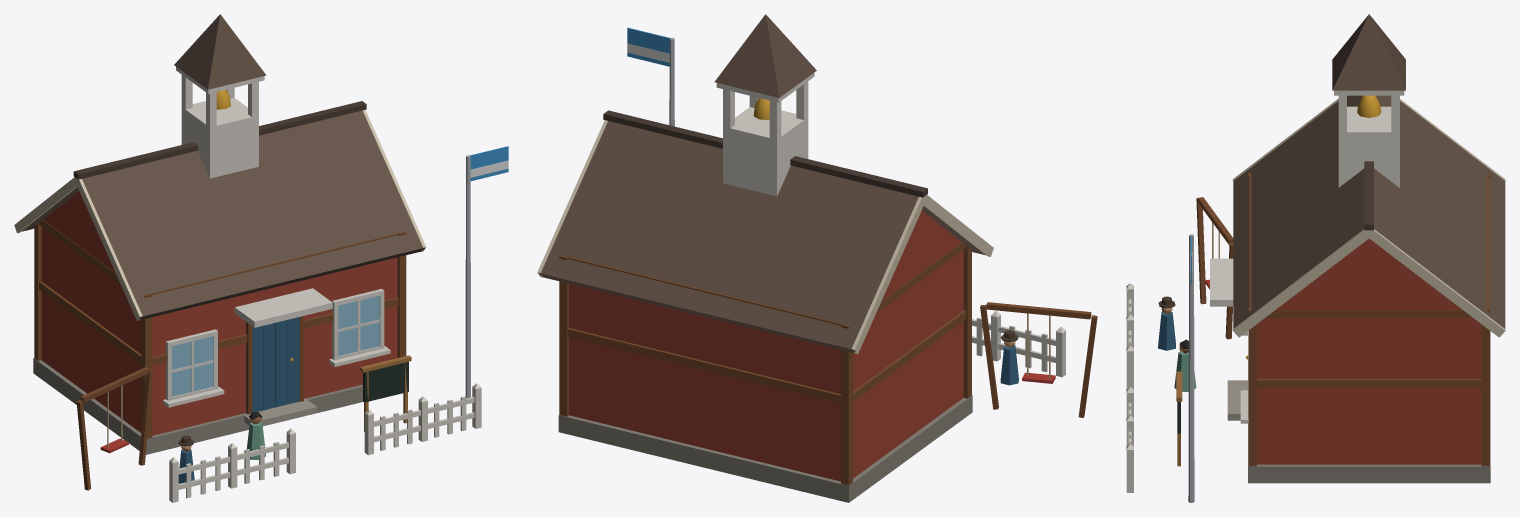
Rendered from schoolhouse.glb.
3 views of the same model, side by side, from view 1: azimuth 30°, elevation 25°; view 2: azimuth 150°, elevation 25°; view 3: azimuth 270°, elevation 25° (orthographic). The views are drawn at different scales.
Parts seen in each view (by area): view 1: town-schoolhouse; view 2: town-schoolhouse; view 3: town-schoolhouse.
Part boxes in pixels (x1,y1,x2,y2): town-schoolhouse: [14, 14, 508, 502]; town-schoolhouse: [537, 14, 1097, 502]; town-schoolhouse: [1126, 14, 1505, 502].
Size of the model in its own units: 8.74 by 7.21 by 6.19.
